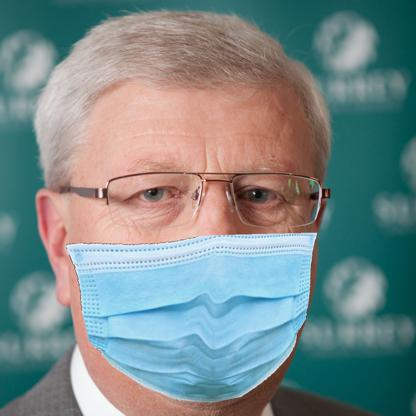mask: (64, 231, 317, 403)
